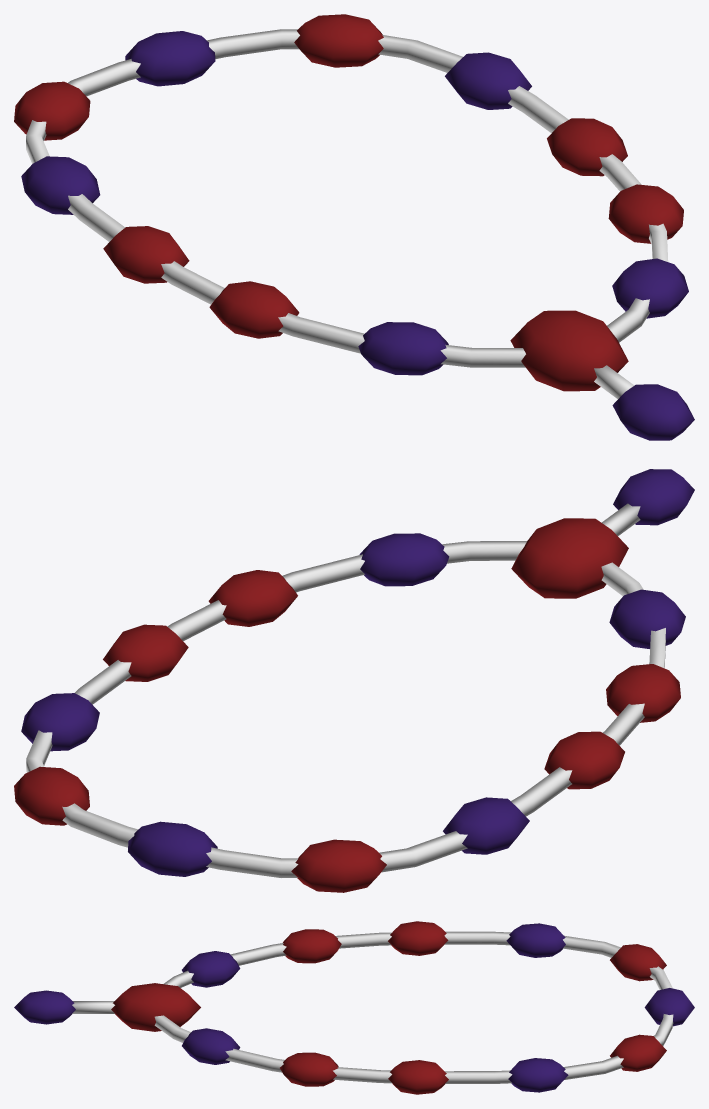
Rendered from JewelNecklace.fbx.
The picture shows the model from 3 angles, top to bottom: view 1: azimuth 30°, elevation 25°; view 2: azimuth 150°, elevation 25°; view 3: azimuth 270°, elevation 25°; orthographic projection. The views are drawn at different scales.
Visible parts, largest first — view 1: Necklace:RoadKillOut; view 2: Necklace:RoadKillOut; view 3: Necklace:RoadKillOut.
Boxes of the visible parts, x1=… form: Necklace:RoadKillOut: x1=14, y1=14, x2=694, y2=440; Necklace:RoadKillOut: x1=14, y1=469, x2=694, y2=892; Necklace:RoadKillOut: x1=14, y1=921, x2=694, y2=1094.
Bounding box in the file's own units: 70 × 7.97 × 126.
